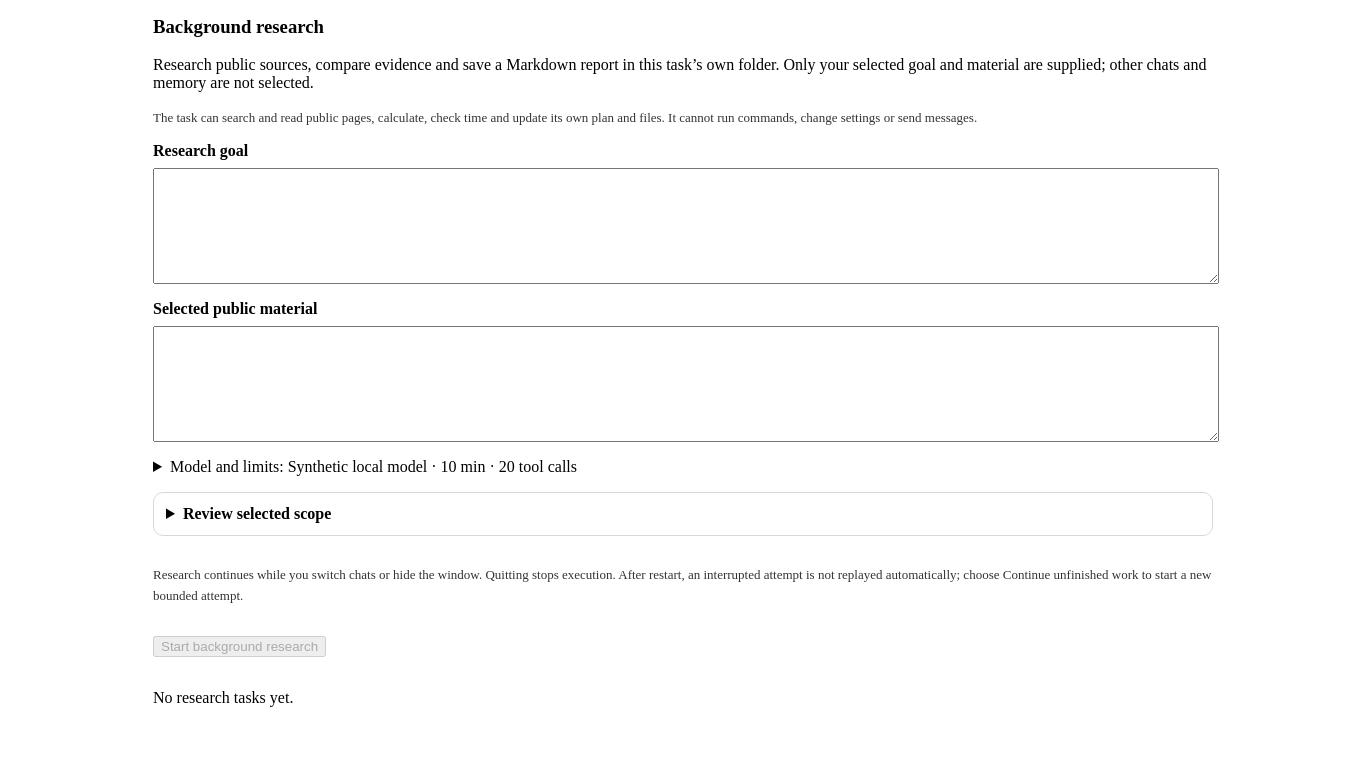
it: background research UI › shows and submits the explicit scope, fixed report location and bounded settings with remote disclosure off by default
Type "Compare public sources" into the text box labelled "Research goal".
click(686, 226); type("Compare public sources")  # box [153,168,1219,284]
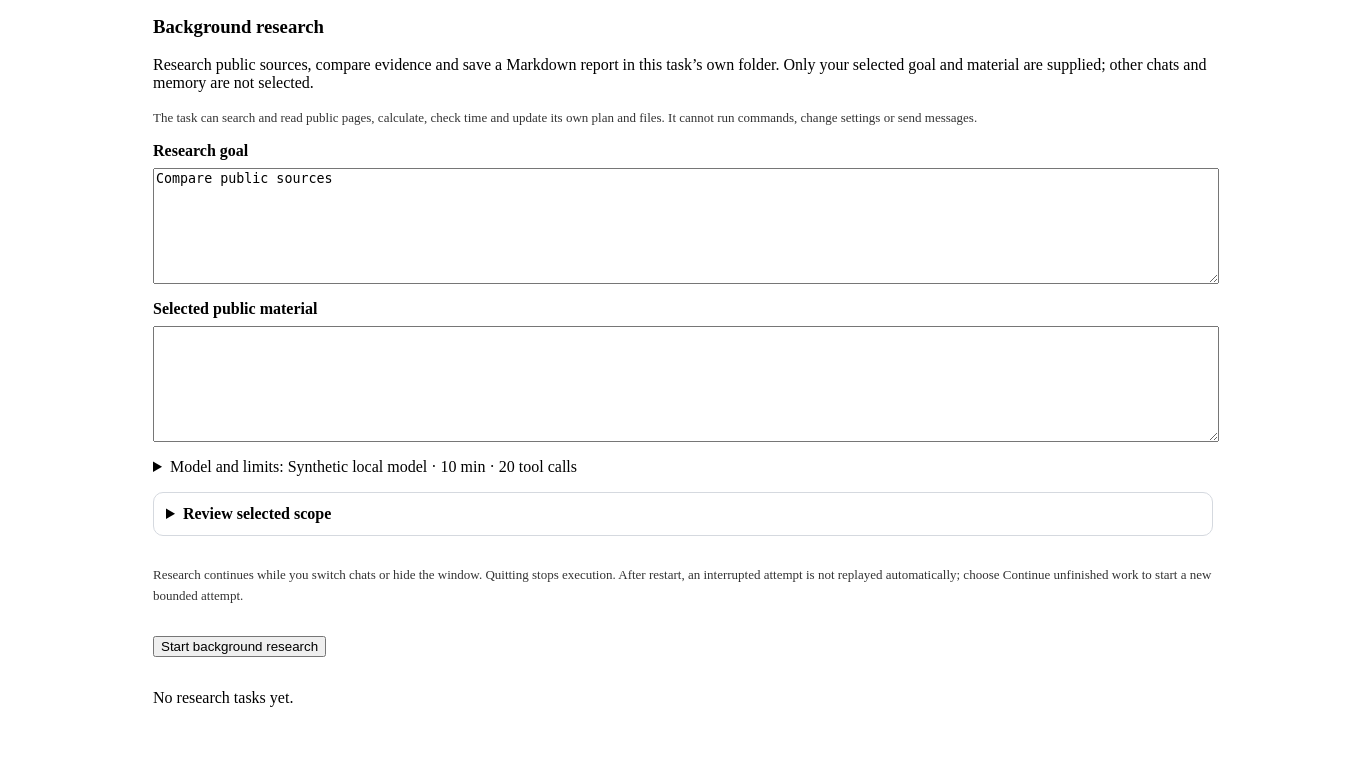
Type "SELECTED_PUBLIC_MATERIAL" into the text box labelled "Selected public material".
click(686, 384); type("SELECTED_PUBLIC_MATERIAL")  # box [153,326,1219,442]
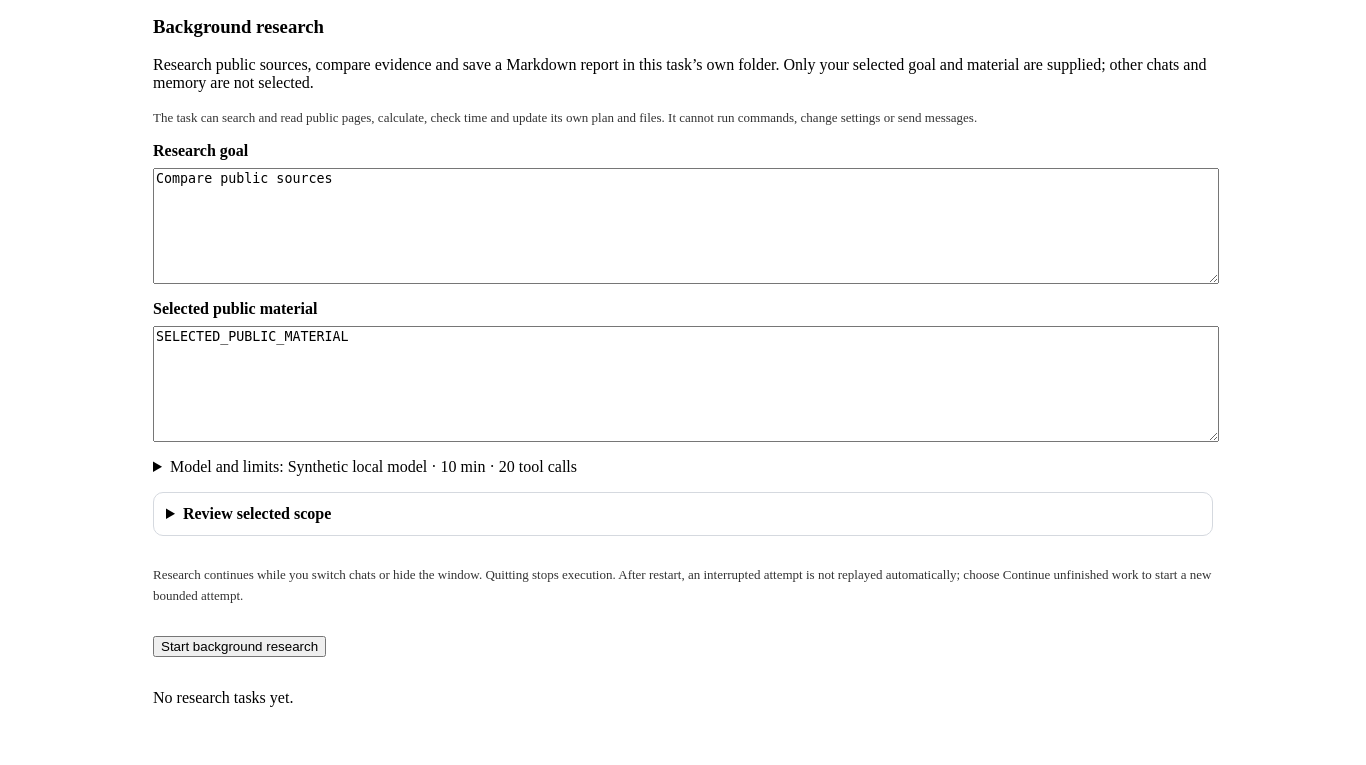
Replace the text in the number field named "Minutes per attempt" with "5" at coordinates (373, 467), box [170,458,577,475]
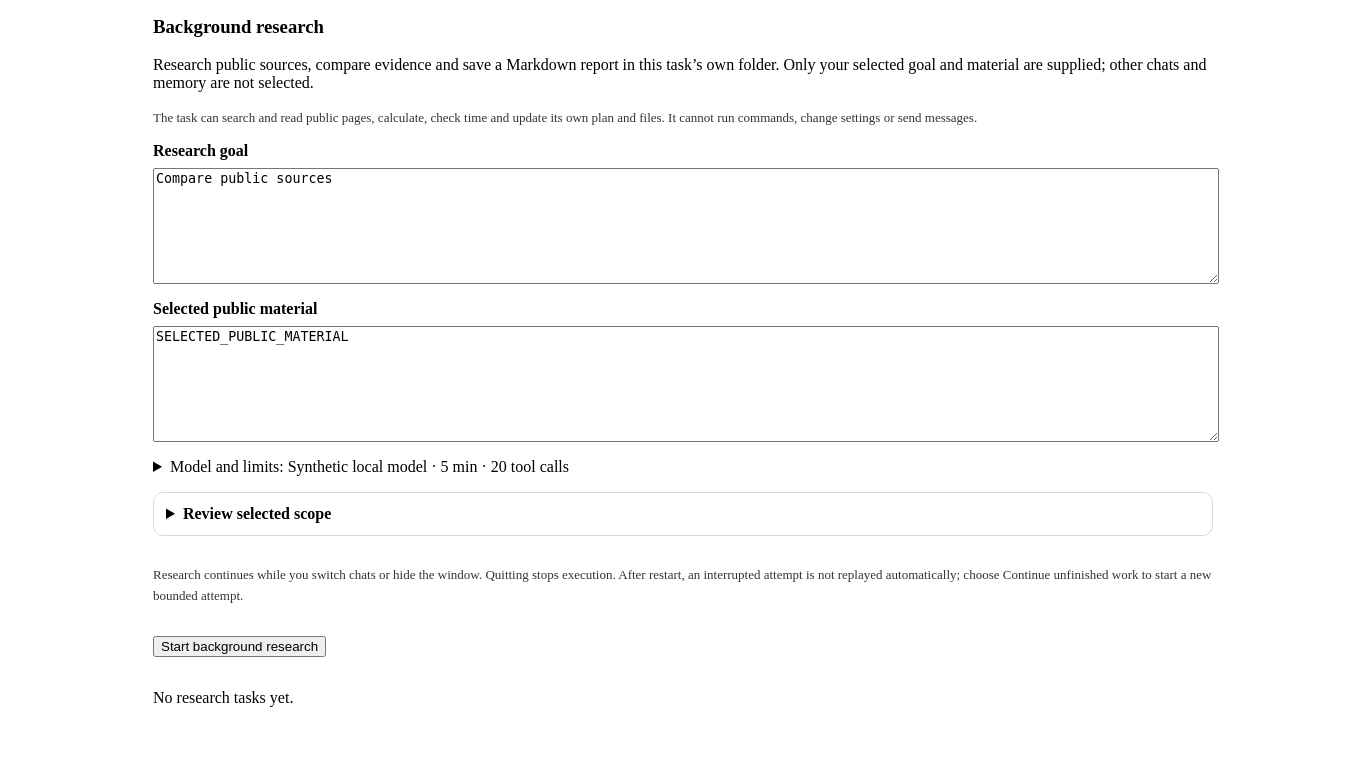
Replace the text in the number field named "Maximum tool calls per attempt" with "12" at coordinates (369, 467), box [170,458,569,475]
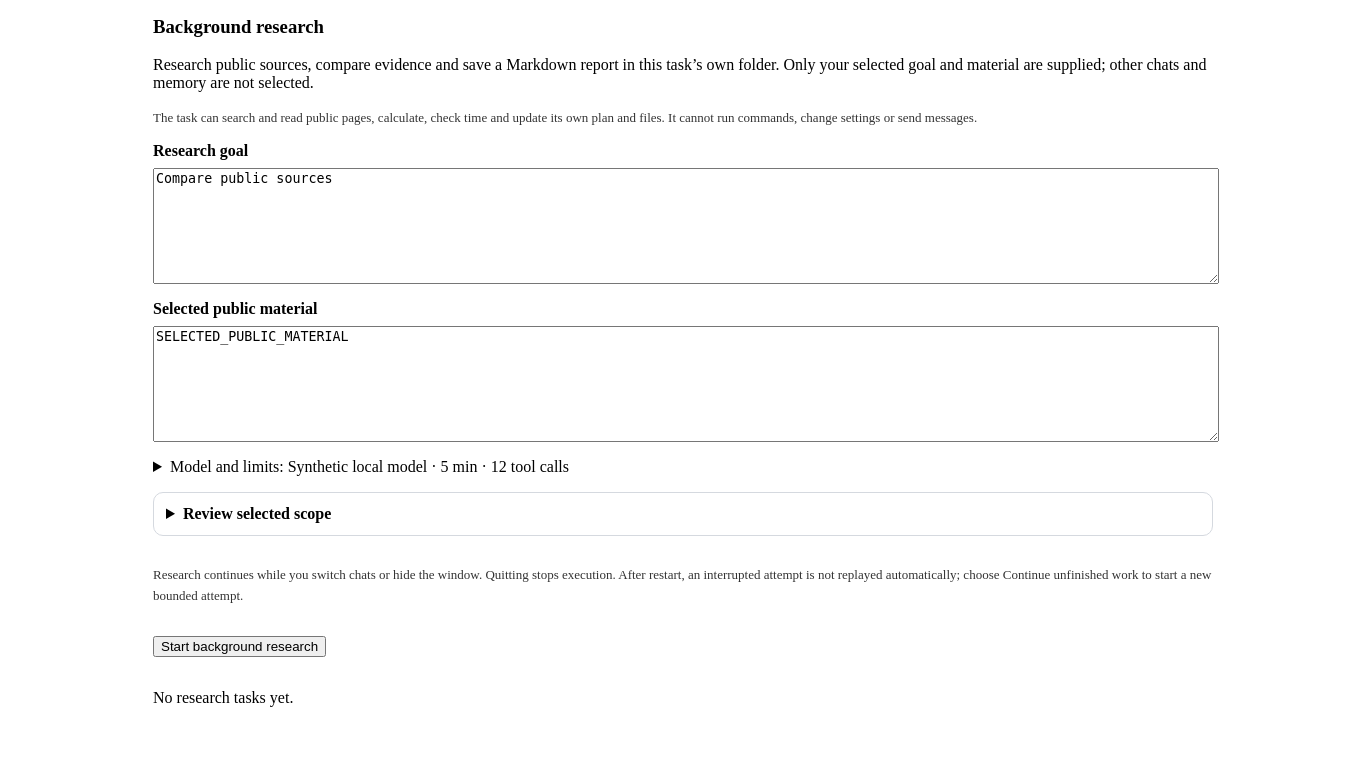
Click the button "Start background research".
click(240, 646)  # box [153,636,326,657]
(page scrolled)
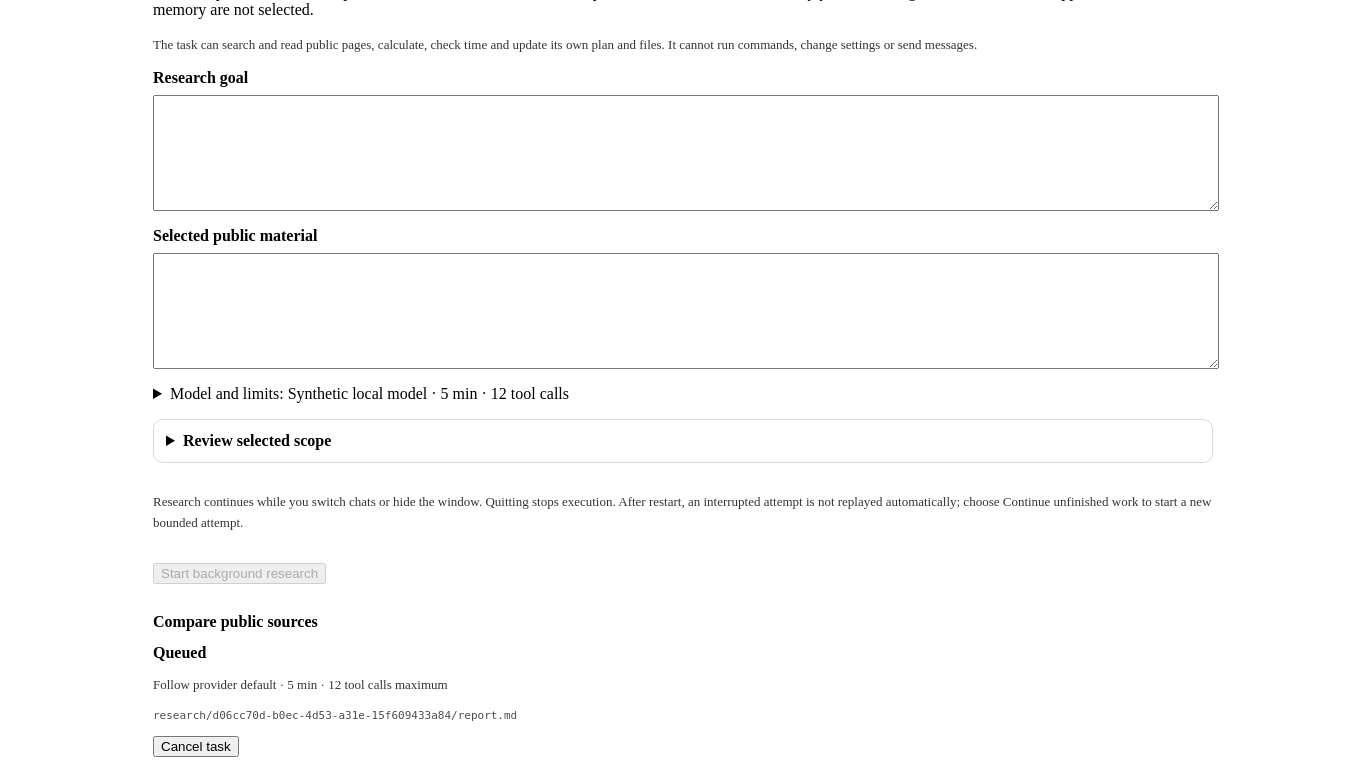
Now the element "Compare public sources" is shown, box [153,613,517,757]
